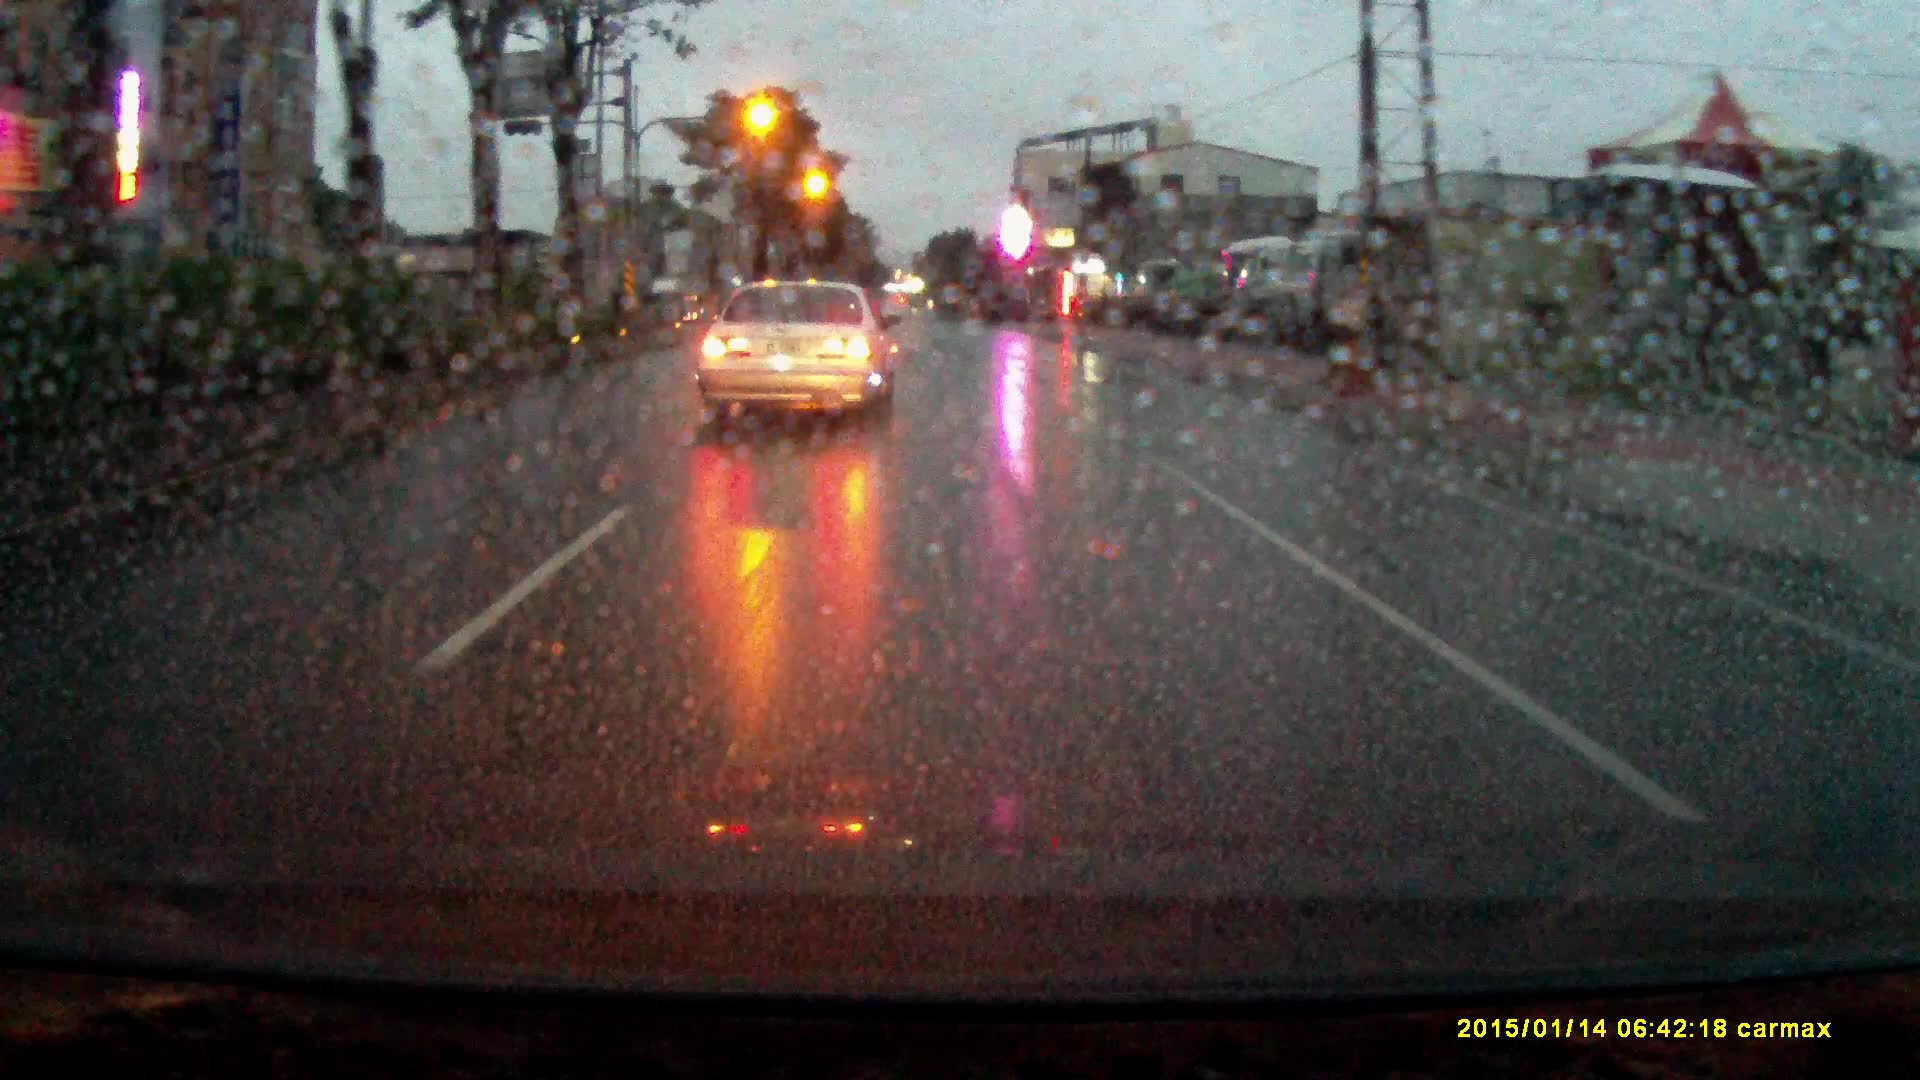vehicle: (696, 276, 905, 444), (1313, 232, 1402, 342), (1224, 241, 1316, 345), (1131, 262, 1188, 332), (1160, 266, 1222, 320), (651, 282, 700, 330)
